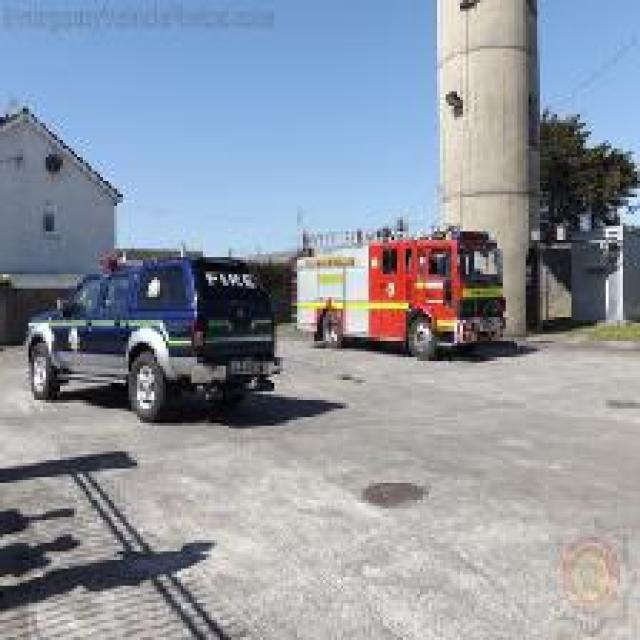emergency: (23, 243, 280, 429), (288, 216, 508, 360)
